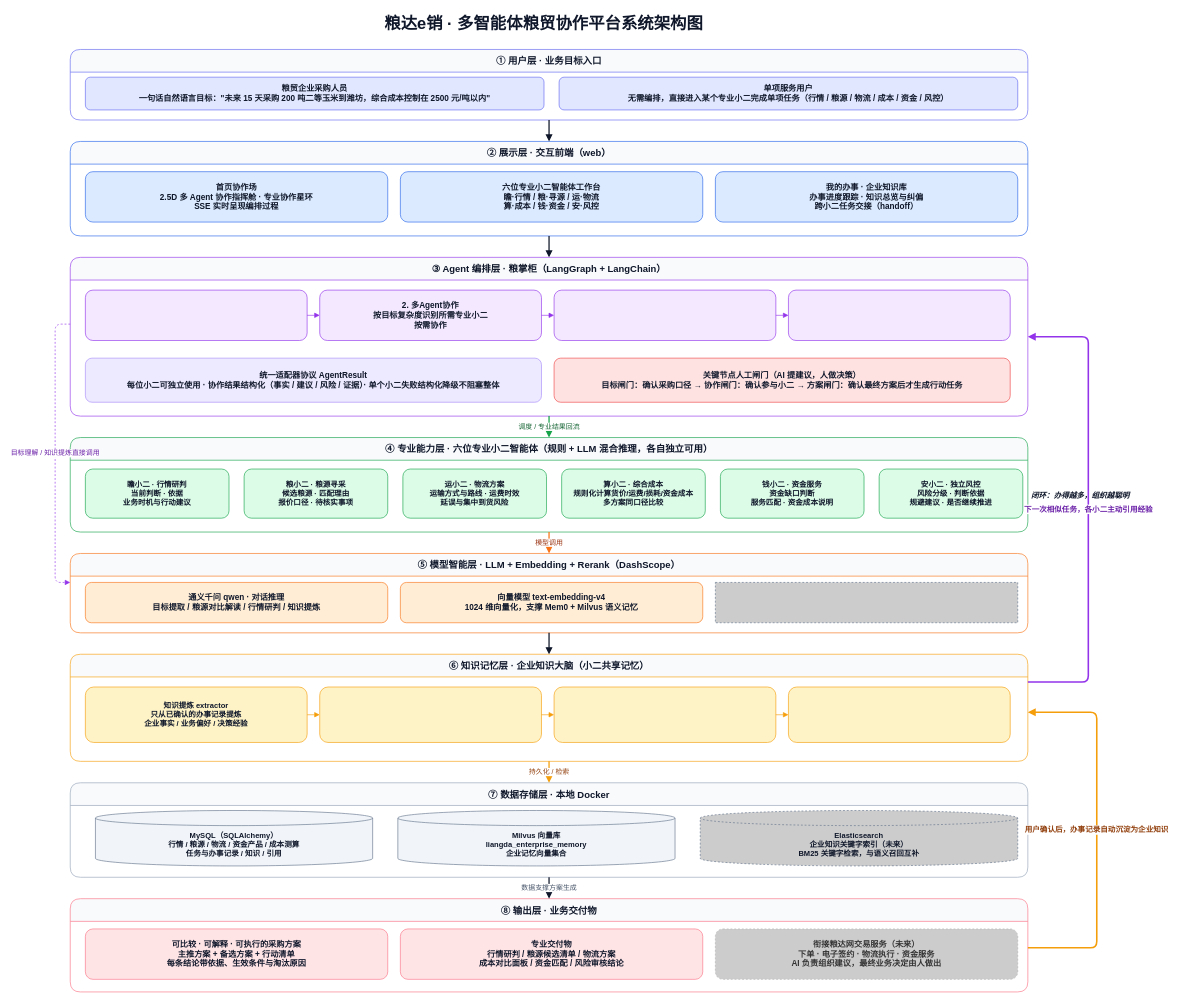
The diagram is 1179 pixels wide and 1003 high, and some of its shapes have lost their labels. Here are the shapes that lost their labels. From the top down, the centre of each, then its label:
At point 196,315: "1. 目标理解 自然语言目标提取： 规则兜底 + LLM 补充 + 企业记忆引用".
At point 664,315: "3. LangGraph 图编排 并行办理 瞻/粮/运/钱 依赖办理 算 → 安（复用上游结果）".
At point 899,315: "4. 冲突检测与综合建议 conflict_rules 跨专业冲突检测 + 定向补充 汇总方案".
At point 866,602: "重排模型 gte-rerank（未来） 关键字 + 向量双路召回后精排融合，提升检索质量".
At point 430,714: "权威知识状态（MySQL） shared_experiences + 跨小二引用记录 可控纠偏：本次不采用 / 编辑范围 / 停用".
At point 664,714: "Mem0 + Milvus 语义记忆 text-embedding-v4 向量化 跨小二语义召回，异常回退规则检索".
At point 899,714: "主动引用 后续相似任务中各小二主动引用经验 明示为什么适用、影响了什么决策".
